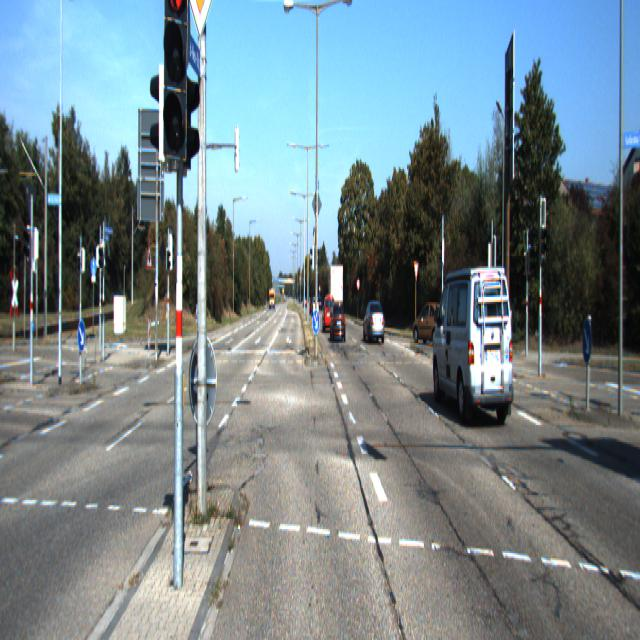Car: (432, 256, 516, 430), (412, 298, 446, 344), (363, 300, 384, 345), (328, 262, 343, 318), (330, 302, 346, 343), (323, 294, 336, 334)
